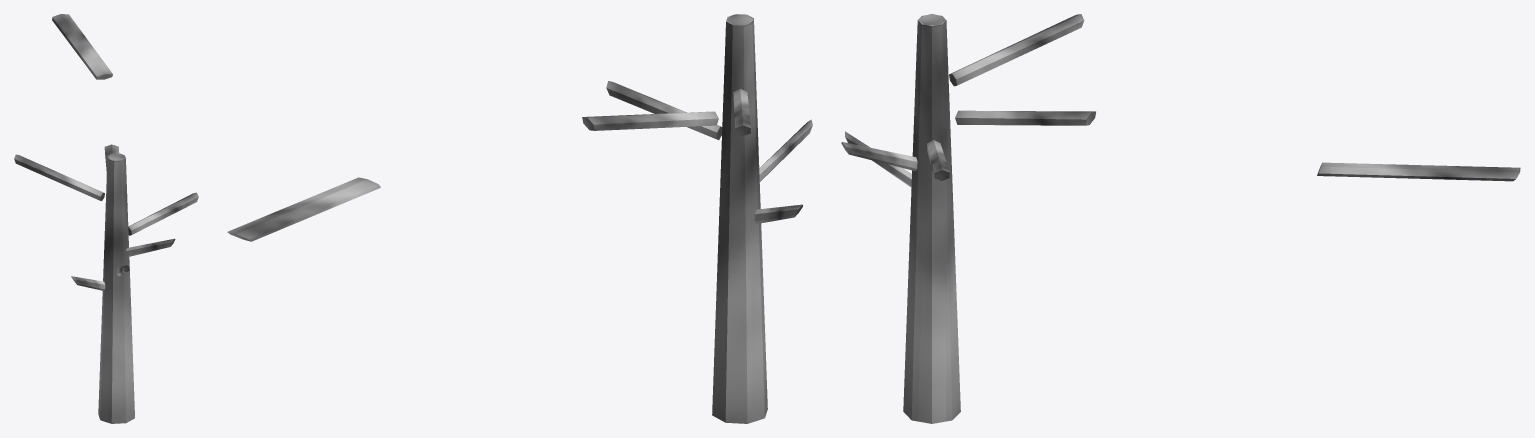
Rendered from tree_dead_1.glb.
The picture shows the model from 3 angles, left to right: view 1: azimuth 30°, elevation 25°; view 2: azimuth 150°, elevation 25°; view 3: azimuth 270°, elevation 25°; orthographic projection. The views are drawn at different scales.
Parts seen in each view (by area): view 1: tree_dead_1; view 2: tree_dead_1; view 3: tree_dead_1.
Part boxes in pixels (<box>): tree_dead_1: <box>14,14,198,423</box>; tree_dead_1: <box>227,14,812,423</box>; tree_dead_1: <box>841,14,1520,423</box>.
Size of the model in its own units: 2.19 by 2.7 by 4.24.
Materials: 1 (1 with a texture image).
